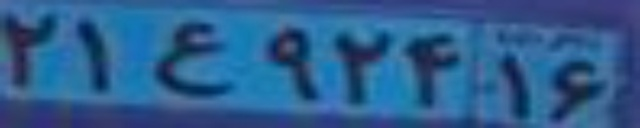1: (73, 18, 113, 91), (497, 51, 532, 119)
2: (2, 11, 62, 89), (332, 29, 393, 105)
4: (407, 33, 461, 108)
6: (544, 60, 605, 120)
9: (266, 27, 316, 100)
ain: (149, 20, 236, 97)
